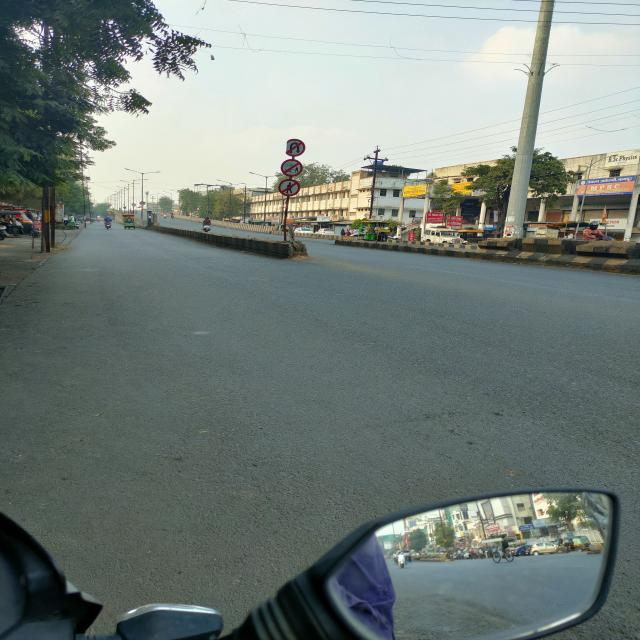CYCLE_PROHIBITED: (281, 158, 303, 176)
